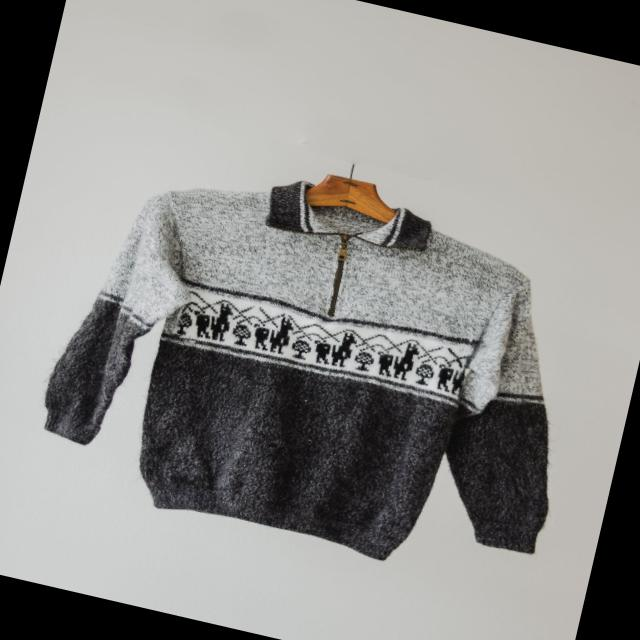Chompa: (25, 120, 612, 595)
